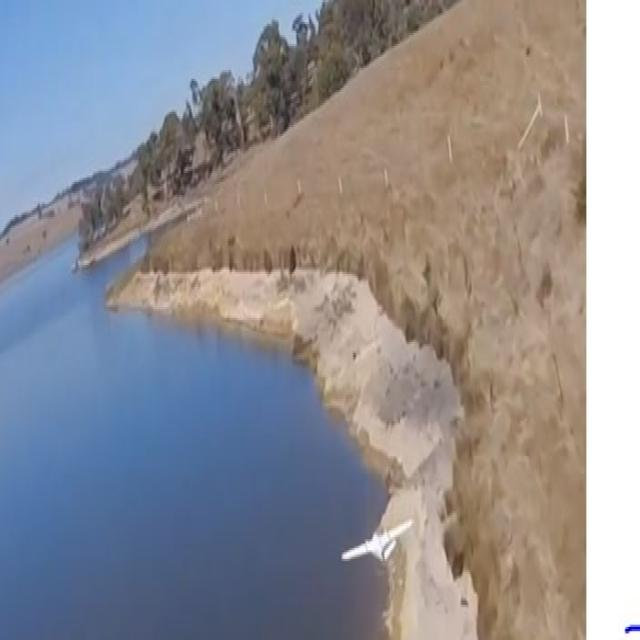iha: (375, 516, 379, 563)
